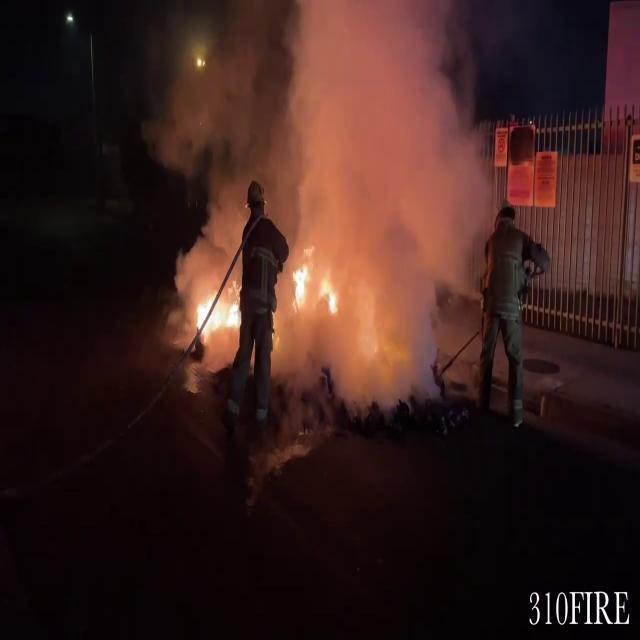Fire: (191, 277, 243, 347)
Smoke: (158, 1, 498, 404)
